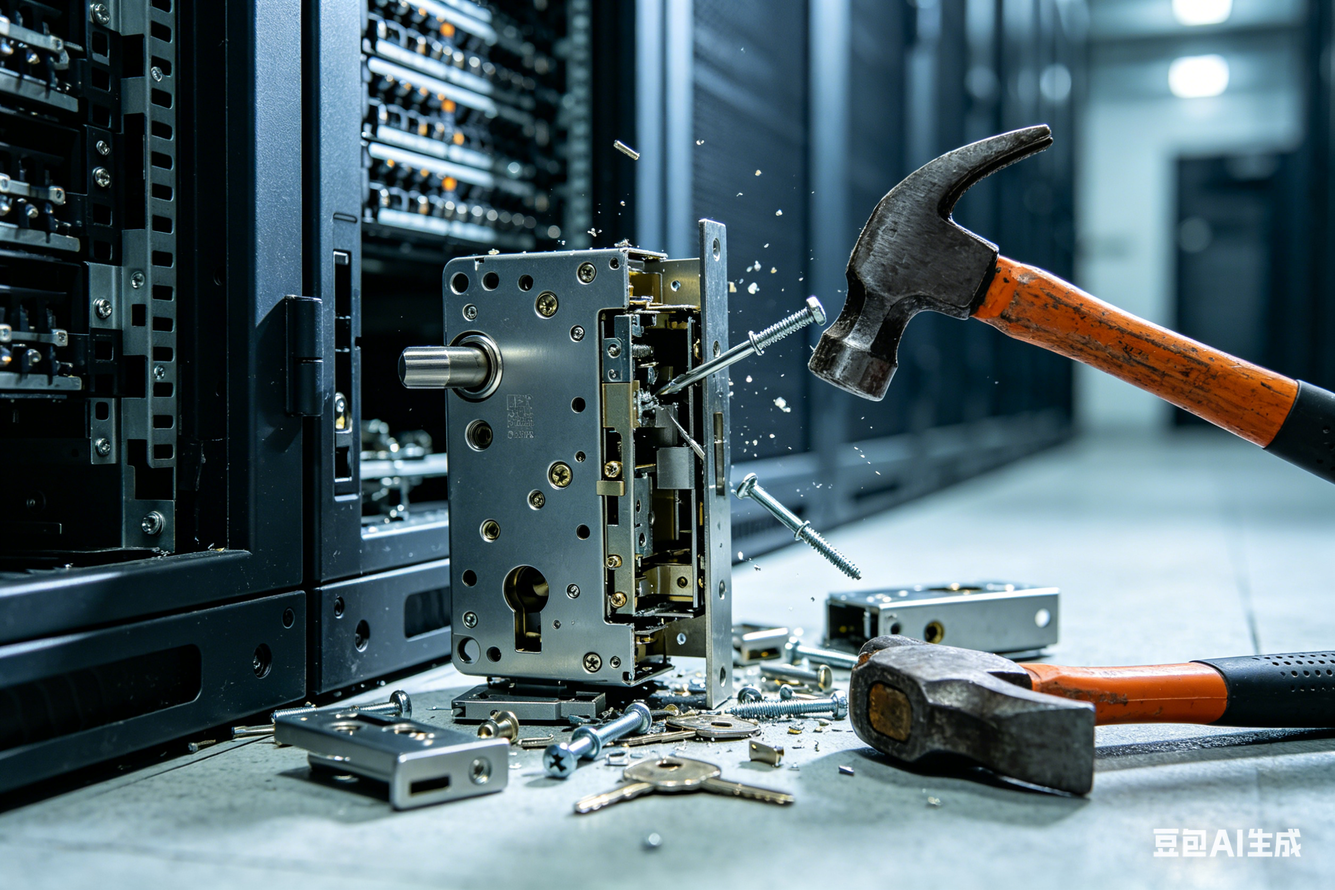BadLock: (574, 246, 734, 721)
